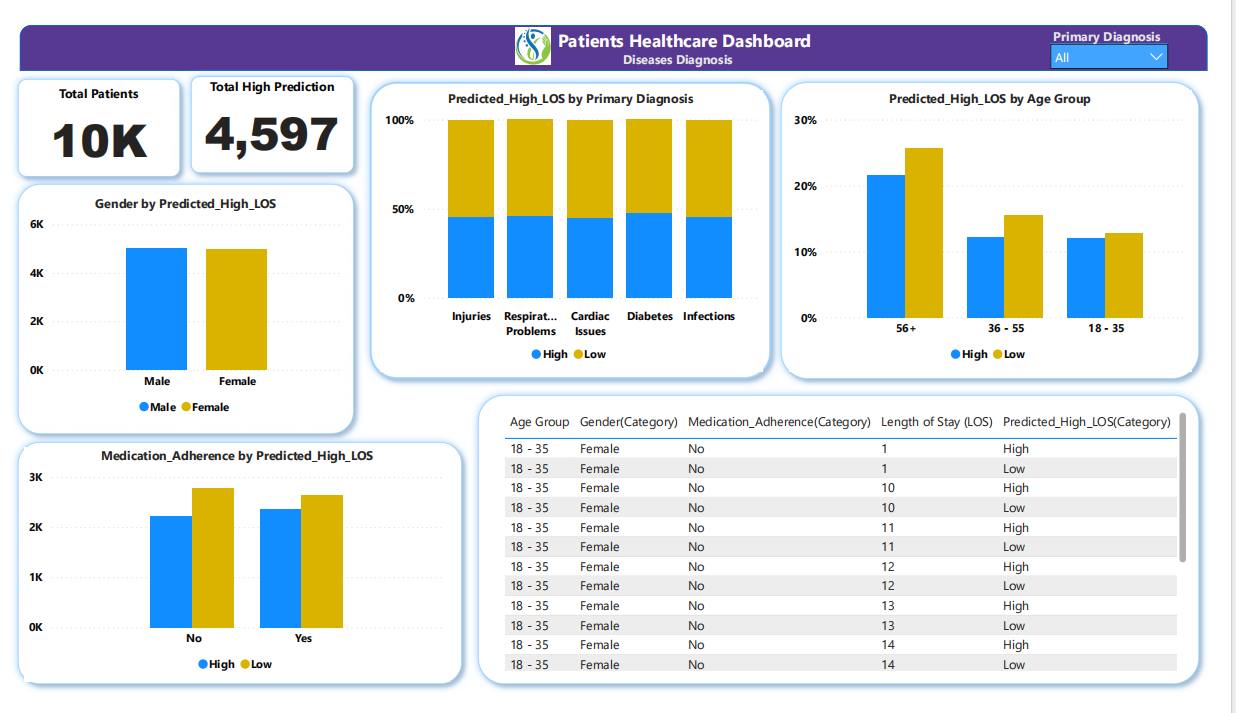

What the dashboard file says about the page in this screenshot:
{"tool":"powerbi","page":{"name":"Predicted_LOS Dashboard","canvas":[1280,720],"ordinal":1},"visuals":[{"type":"shape","box":[11,6.9,1269.3,49.4],"z":0},{"type":"textbox","box":[570.8,5.5,301.9,39.8],"z":1000},{"type":"textbox","box":[640.8,30.2,146.8,28.8],"z":2000},{"type":"image","box":[533.8,5.5,50.8,48],"z":3000},{"type":"shape","box":[816,58.9,463.8,335],"z":4000},{"type":"shape","box":[376.7,58.9,445.4,335],"z":5000},{"type":"shape","box":[0,444.2,492,276.1],"z":6000},{"type":"shape","box":[0,168.1,376.7,284.7],"z":7000},{"type":"shape","box":[492.3,393.6,787.7,326.4],"z":8000},{"type":"slicer","fields":{"Values":["df.Primary Diagnosis"]},"box":[1101.8,17.2,146,35.6],"z":9000},{"type":"textbox","box":[1082.2,4.9,181.6,28.2],"z":10000},{"type":"shape","box":[0,56.4,191.4,121.5],"z":11000},{"type":"shape","box":[185.3,52.8,191.4,121.5],"z":12000},{"type":"hundredPercentStackedColumnChart","title":"Predicted_High_LOS by Primary Diagnosis","fields":{"Category":["df.Primary Diagnosis"],"Y":["CountNonNull(df.Predicted_High_LOS)"],"Series":["df.Predicted_High_LOS(Category)"]},"box":[396.3,76.1,407.4,300.6],"z":13000},{"type":"clusteredColumnChart","title":"Predicted_High_LOS by Age Group ","fields":{"Category":["df.Age Group"],"Y":["Divide(CountNonNull(df.Predicted_High_LOS), ScopedEval(CountNonNull(df.Predicted_High_LOS), []))"],"Series":["df.Predicted_High_LOS(Category)"]},"box":[833.1,76.1,429.5,300.6],"z":14000},{"type":"clusteredColumnChart","title":"Medication_Adherence by Predicted_High_LOS","fields":{"Y":["df.Total_Patients_prediction"],"Series":["df.Predicted_High_LOS(Category)"],"Category":["df.Medication_Adherence(Category)"]},"box":[16,457.7,455.2,250.3],"z":15000},{"type":"card","title":"Total Patients","fields":{"Values":["df.Total_Patients_prediction"]},"box":[17.2,71.2,157.1,94.5],"z":16000},{"type":"columnChart","title":"Gender by Predicted_High_LOS","fields":{"Y":["CountNonNull(df.Predicted_High_LOS)"],"Category":["df.Gender(Category)"],"Series":["df.Gender(Category)"]},"box":[17.2,187.7,343.6,245.4],"z":17000},{"type":"tableEx","fields":{"Values":["df.Age Group","df.Gender(Category)","df.Medication_Adherence(Category)","df.Length of Stay (LOS)","df.Predicted_High_LOS(Category)"]},"box":[523.9,414.7,738.7,285.9],"z":18000},{"type":"card","title":"Total High Prediction","fields":{"Values":["df.Total_High_prediction","select"]},"box":[201.2,63.8,159.5,94.5],"z":19000}]}

Visuals, with their boxes in screenshot pixels (x1, y1, x2, y2), scaled from the page's 1280x720 canvas onto the 1236x713 screenshot:
shape: x1=11 y1=7 x2=1235 y2=56
textbox: x1=551 y1=5 x2=843 y2=45
textbox: x1=619 y1=30 x2=761 y2=58
image: x1=515 y1=5 x2=565 y2=53
shape: x1=788 y1=58 x2=1235 y2=390
shape: x1=364 y1=58 x2=794 y2=390
shape: x1=0 y1=440 x2=475 y2=712
shape: x1=0 y1=166 x2=364 y2=448
shape: x1=475 y1=390 x2=1235 y2=712
slicer - df.Primary Diagnosis: x1=1064 y1=17 x2=1205 y2=52
textbox: x1=1045 y1=5 x2=1220 y2=33
shape: x1=0 y1=56 x2=185 y2=176
shape: x1=179 y1=52 x2=364 y2=173
"Predicted_High_LOS by Primary Diagnosis" hundredPercentStackedColumnChart: x1=383 y1=75 x2=776 y2=373
"Predicted_High_LOS by Age Group " clusteredColumnChart: x1=804 y1=75 x2=1219 y2=373
"Medication_Adherence by Predicted_High_LOS" clusteredColumnChart: x1=15 y1=453 x2=455 y2=701
"Total Patients" card: x1=17 y1=71 x2=168 y2=164
"Gender by Predicted_High_LOS" columnChart: x1=17 y1=186 x2=348 y2=429
tableEx - df.Age Group x df.Gender(Category): x1=506 y1=411 x2=1219 y2=694
"Total High Prediction" card: x1=194 y1=63 x2=348 y2=157
